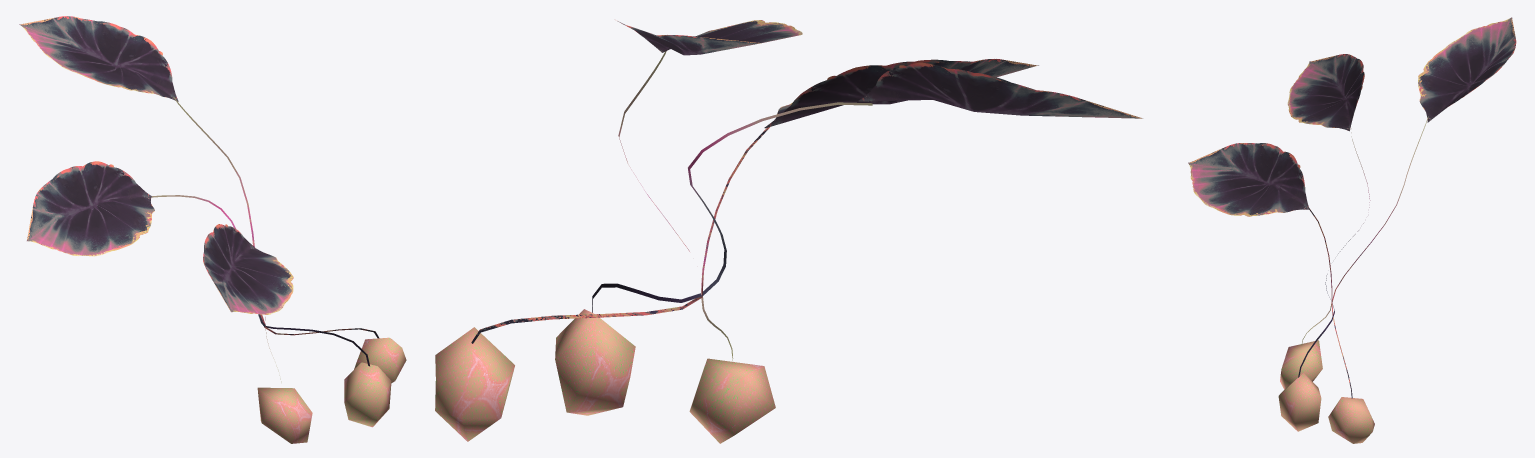
The picture shows the model from 3 angles, left to right: view 1: azimuth 30°, elevation 25°; view 2: azimuth 150°, elevation 25°; view 3: azimuth 270°, elevation 25°; orthographic projection. The views are drawn at different scales.
Visible parts, largest first — view 1: A01; view 2: A01; view 3: A01.
Boxes of the visible parts, x1,y1,x2,y2 form: A01: (19,16,406,443); A01: (435,20,1142,443); A01: (1188,17,1516,443).
Size of the model in its own units: 934 by 817 by 778.
